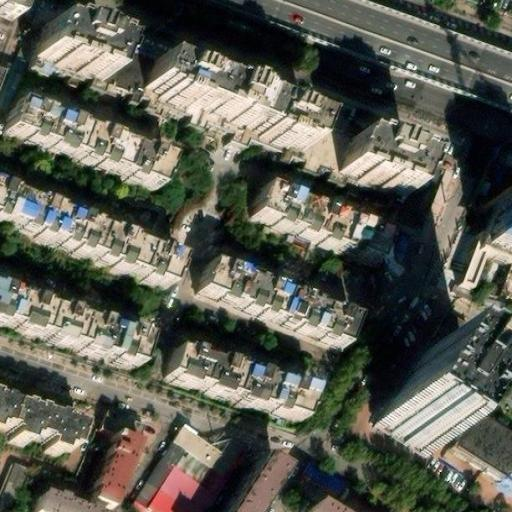building: (26, 49, 408, 179), (0, 189, 167, 284), (188, 261, 344, 343), (158, 350, 305, 421), (241, 184, 376, 260), (0, 296, 137, 369), (367, 354, 460, 455), (426, 402, 512, 494), (216, 97, 306, 157), (135, 67, 226, 125), (328, 143, 407, 204), (28, 24, 107, 84), (167, 426, 239, 477), (141, 466, 214, 512), (84, 439, 128, 511), (130, 442, 178, 508), (220, 457, 276, 512), (470, 201, 512, 261), (302, 461, 348, 497), (97, 416, 138, 447), (31, 495, 84, 512), (0, 0, 18, 25)
